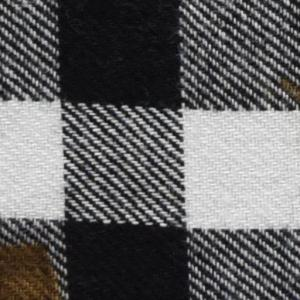Oil Stain: (1, 240, 64, 300), (278, 73, 300, 110)
